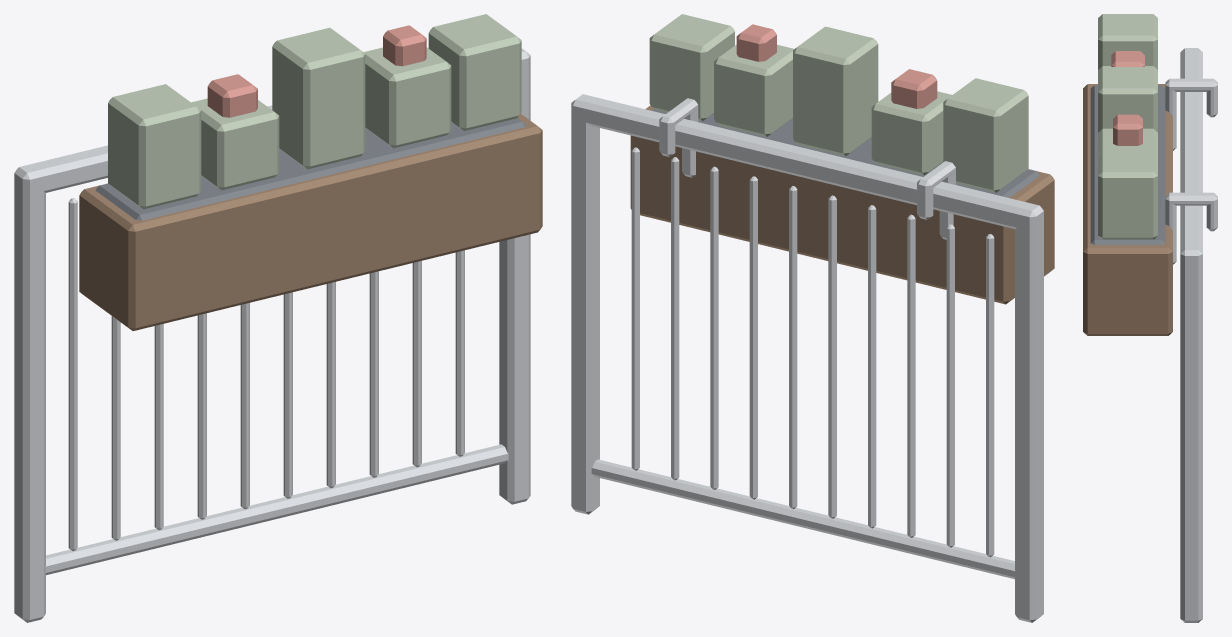
File: RailingPlanter.glb
The picture shows the model from 3 angles, left to right: view 1: azimuth 30°, elevation 25°; view 2: azimuth 150°, elevation 25°; view 3: azimuth 270°, elevation 25°; orthographic projection. The views are drawn at different scales.
Parts seen in each view (by area): view 1: RailingPlanter_Body; view 2: RailingPlanter_Body; view 3: RailingPlanter_Body.
Boxes of the visible parts, box(x1,y1,x2,y2) form: RailingPlanter_Body: box(14, 14, 542, 622); RailingPlanter_Body: box(571, 14, 1054, 622); RailingPlanter_Body: box(1083, 14, 1217, 622).
Bounding box in the file's own units: 1.3 × 1.32 × 0.36.
